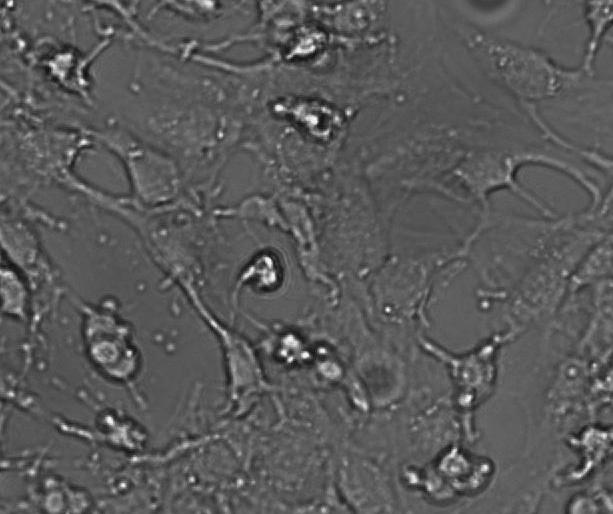Dead: (434, 340, 502, 416), (71, 407, 154, 458), (266, 93, 352, 142), (37, 44, 99, 99), (560, 424, 613, 487), (234, 243, 286, 298), (1, 261, 34, 326), (78, 303, 134, 340), (281, 23, 332, 61), (269, 327, 314, 368), (101, 345, 145, 382), (413, 468, 458, 503), (434, 446, 474, 477), (451, 462, 494, 490), (83, 338, 122, 363)
